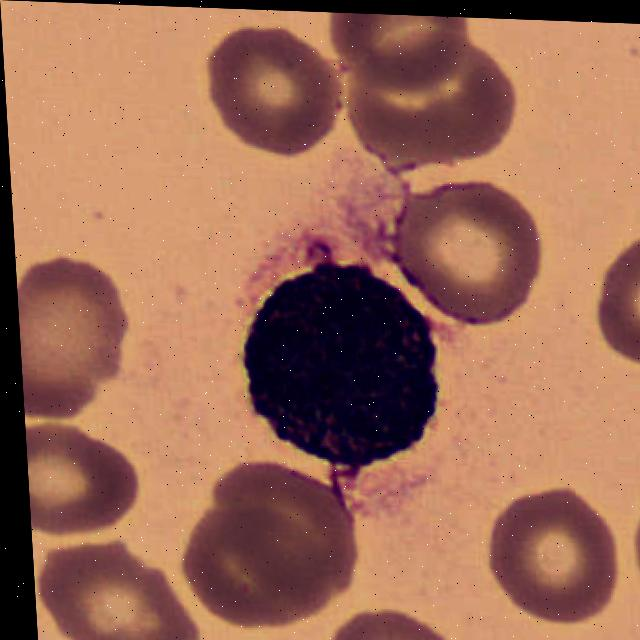basophil: (217, 238, 460, 499)
rbc: (195, 444, 372, 585), (390, 179, 549, 323), (479, 485, 629, 630), (194, 16, 346, 153), (357, 42, 524, 164), (15, 260, 137, 417), (176, 509, 333, 625), (32, 543, 206, 640), (24, 413, 143, 536), (577, 208, 640, 375), (322, 12, 470, 83), (327, 600, 463, 640), (624, 466, 640, 621)
